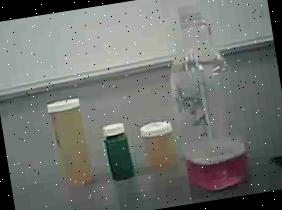Bottle A: (42, 90, 103, 196)
Bottle B: (134, 110, 182, 174)
Bottle C: (97, 116, 142, 186)
hazard: (149, 0, 265, 199)
